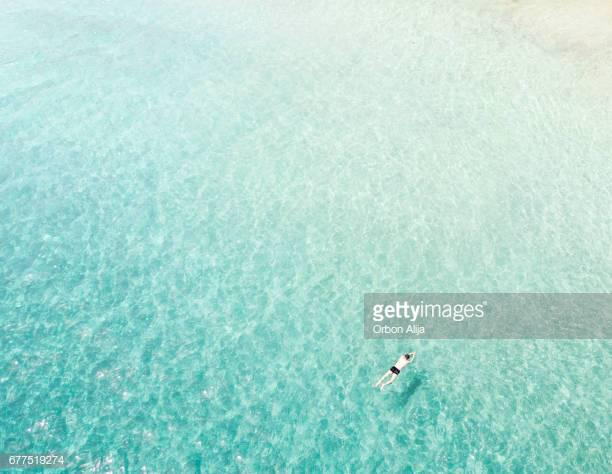swimmer: (376, 349, 416, 390)
